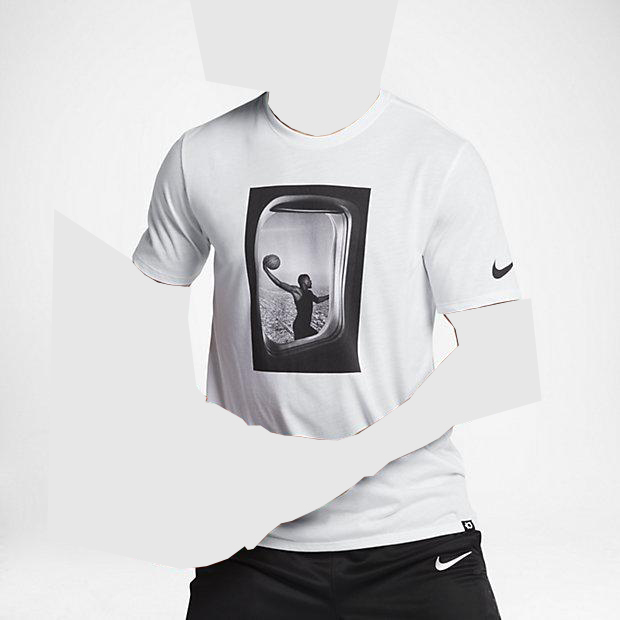teeshirt: (129, 91, 533, 553)
